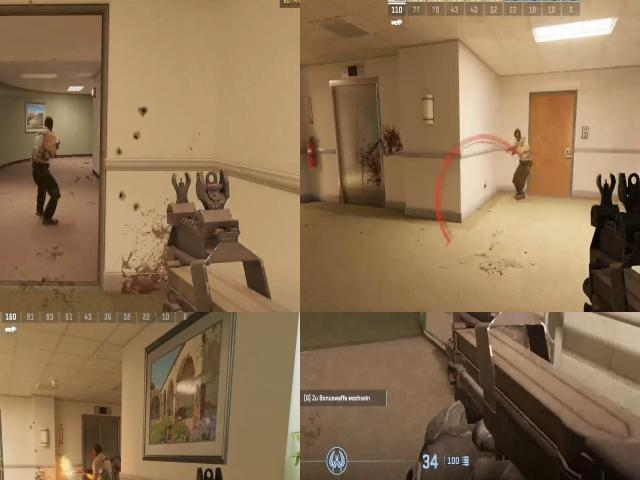T: (510, 126, 534, 192), (30, 117, 59, 168), (86, 444, 116, 480)
T-Head: (90, 436, 106, 466), (41, 114, 56, 134), (511, 127, 526, 144)
